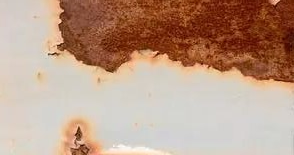Corrosion: (47, 1, 294, 84), (57, 116, 102, 155)
